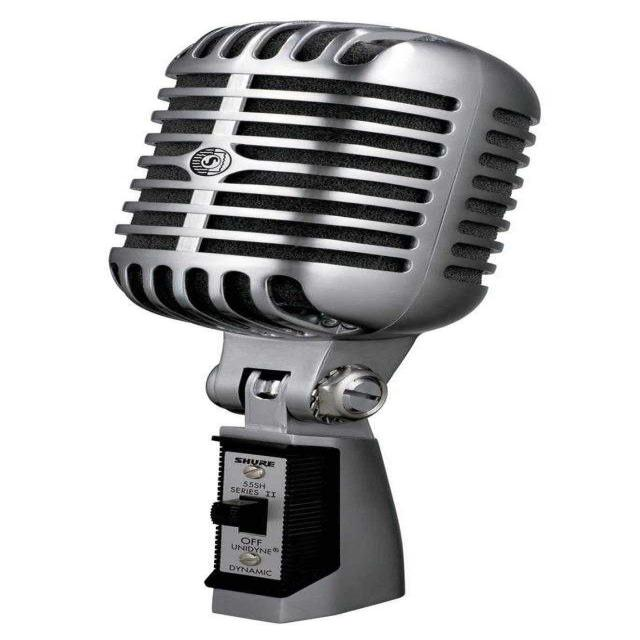microphone: (112, 26, 530, 615)
